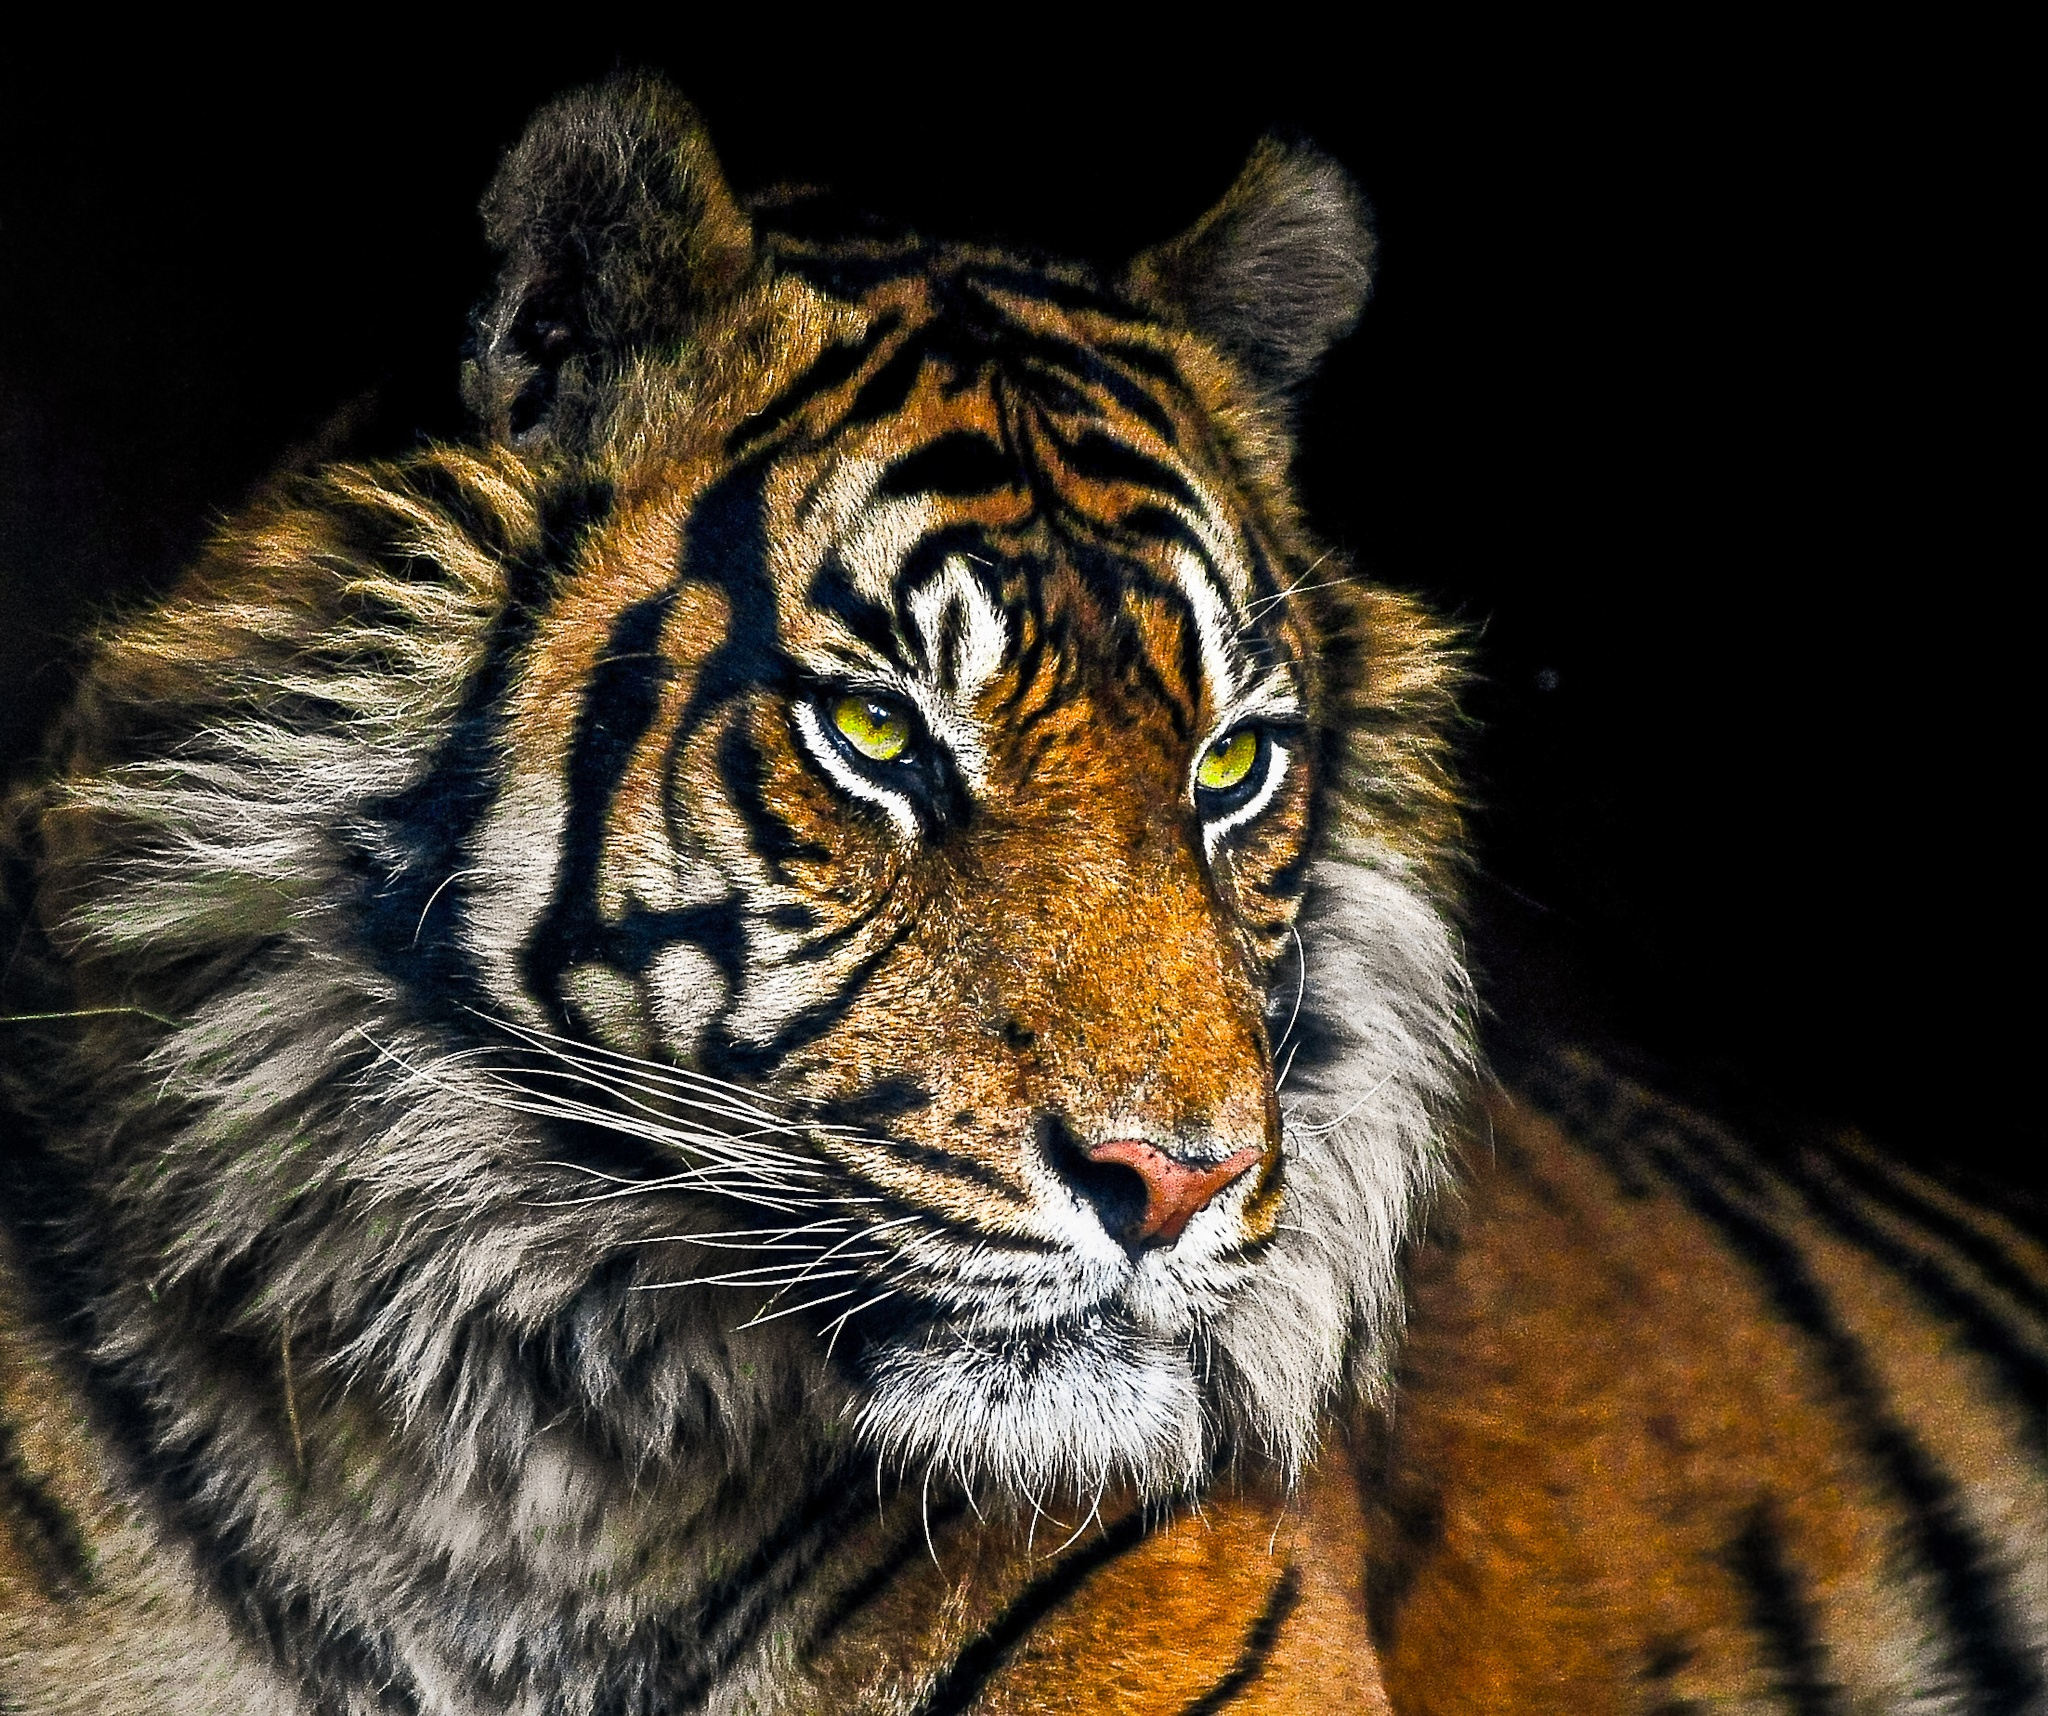tiger: (95, 83, 1610, 1627)
